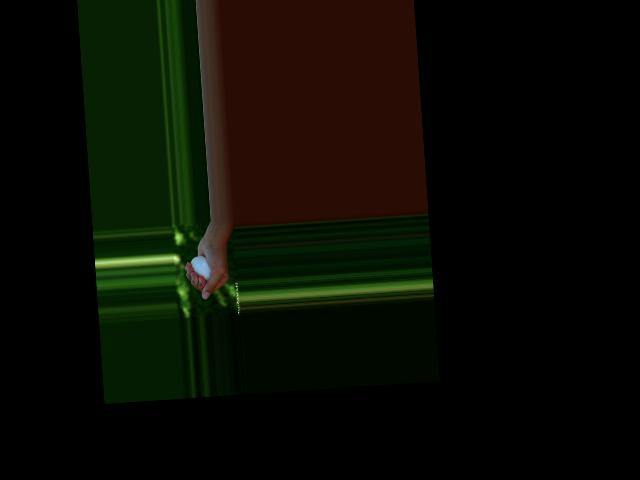egg: (190, 255, 211, 282)
